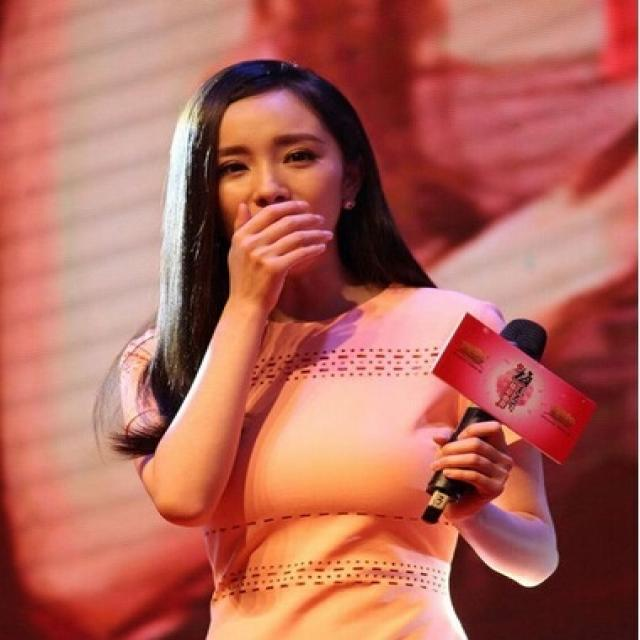nomask: (212, 90, 340, 259)
